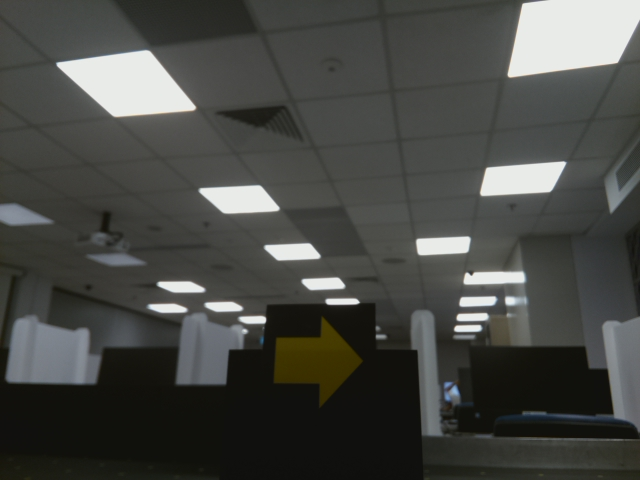right: (268, 311, 367, 409)
